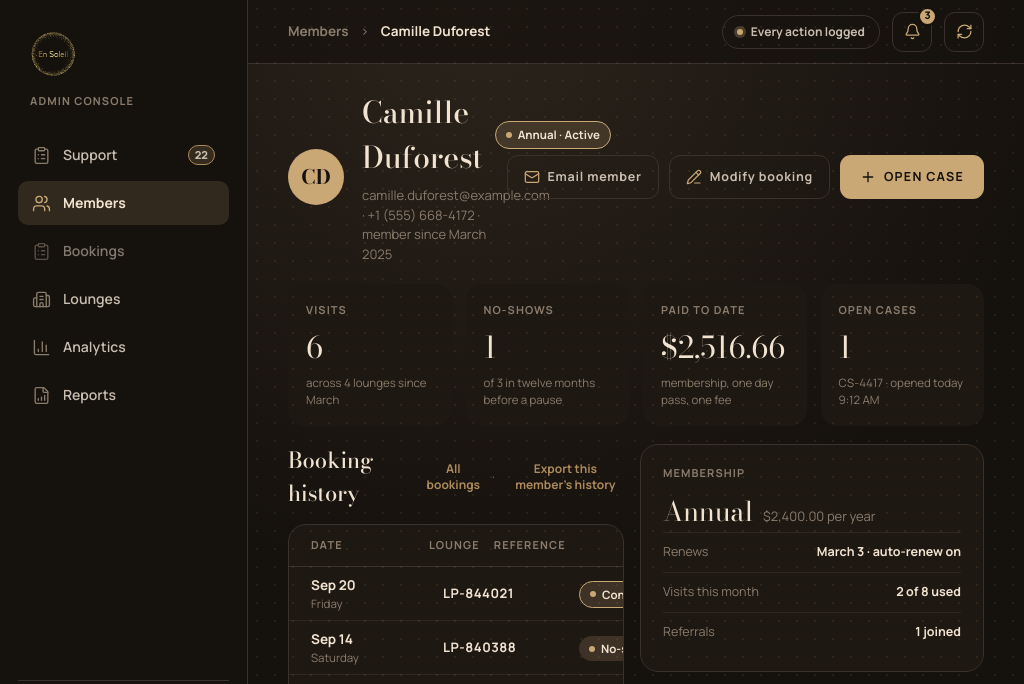
Member profile (/admin/members/[id]) › opens the booking override drawer from Modify booking
Click the button "Modify booking": (749, 177) [669, 155, 830, 199]
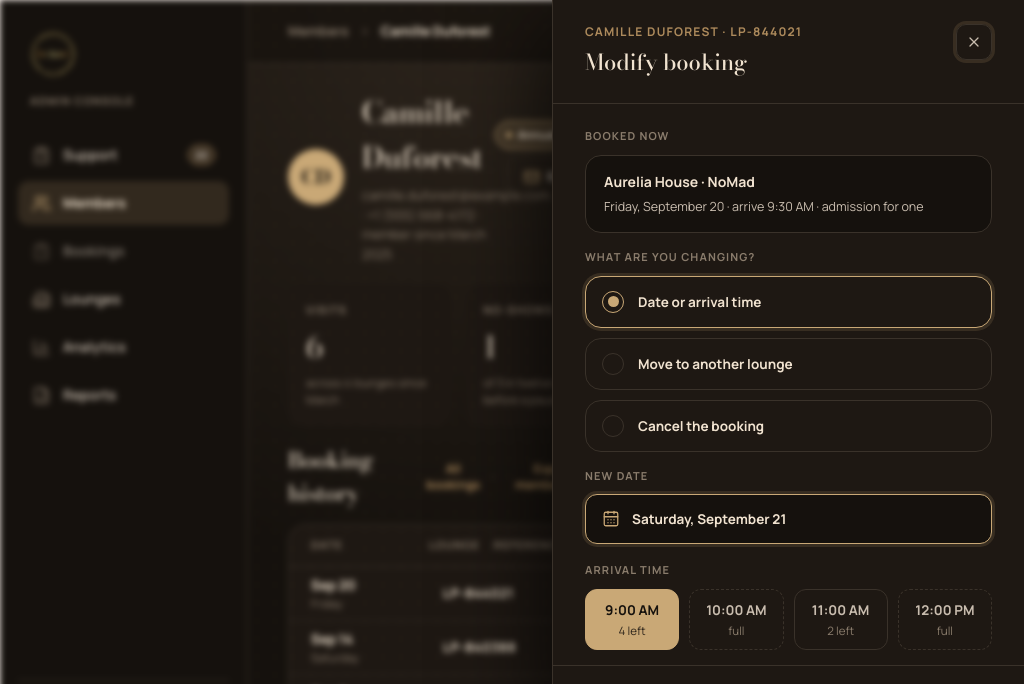
Now the heading "Modify booking" is shown, box [585, 45, 747, 79]
